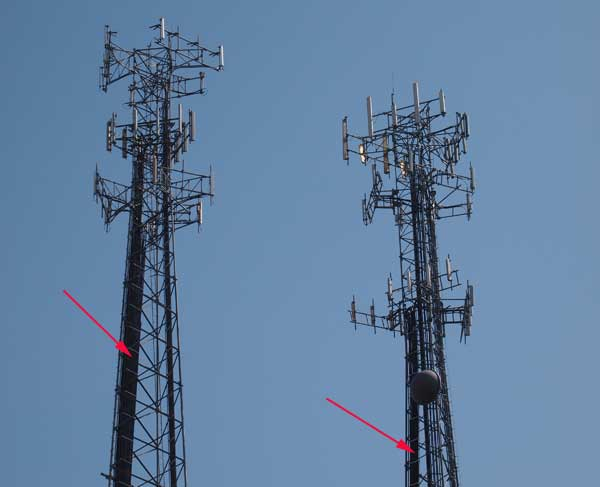sa: (404, 72, 427, 139), (461, 278, 479, 351), (173, 103, 189, 161), (340, 109, 354, 167), (190, 192, 208, 234), (368, 90, 380, 148), (151, 20, 171, 49)
